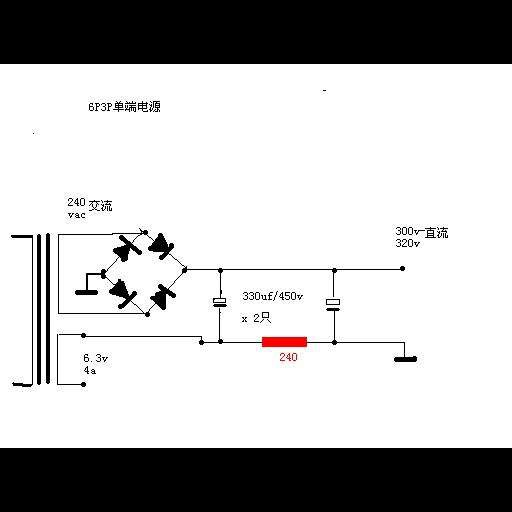firstresistance: (257, 332, 311, 351)
rectifierbridge: (104, 230, 188, 315)
